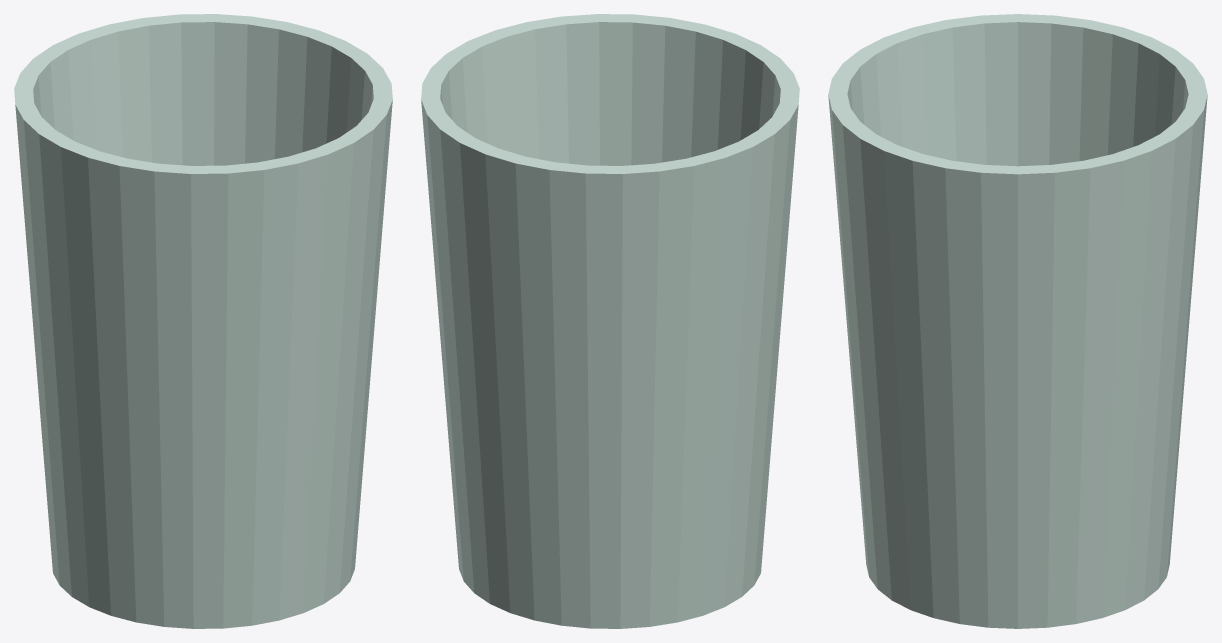
Rendered from soda.fbx.
3 renders of one model, left to right at view 1: azimuth 30°, elevation 25°; view 2: azimuth 150°, elevation 25°; view 3: azimuth 270°, elevation 25°, orthographic.
Visible parts, largest first — view 1: Copo 1.008; view 2: Copo 1.008; view 3: Copo 1.008.
Part boxes in pixels (box(x1,y1,x2,y2)): Copo 1.008: box(14, 14, 392, 628); Copo 1.008: box(421, 14, 799, 628); Copo 1.008: box(828, 14, 1207, 628).
Bounding box in the file's own units: 9.38 × 12.84 × 9.38.
